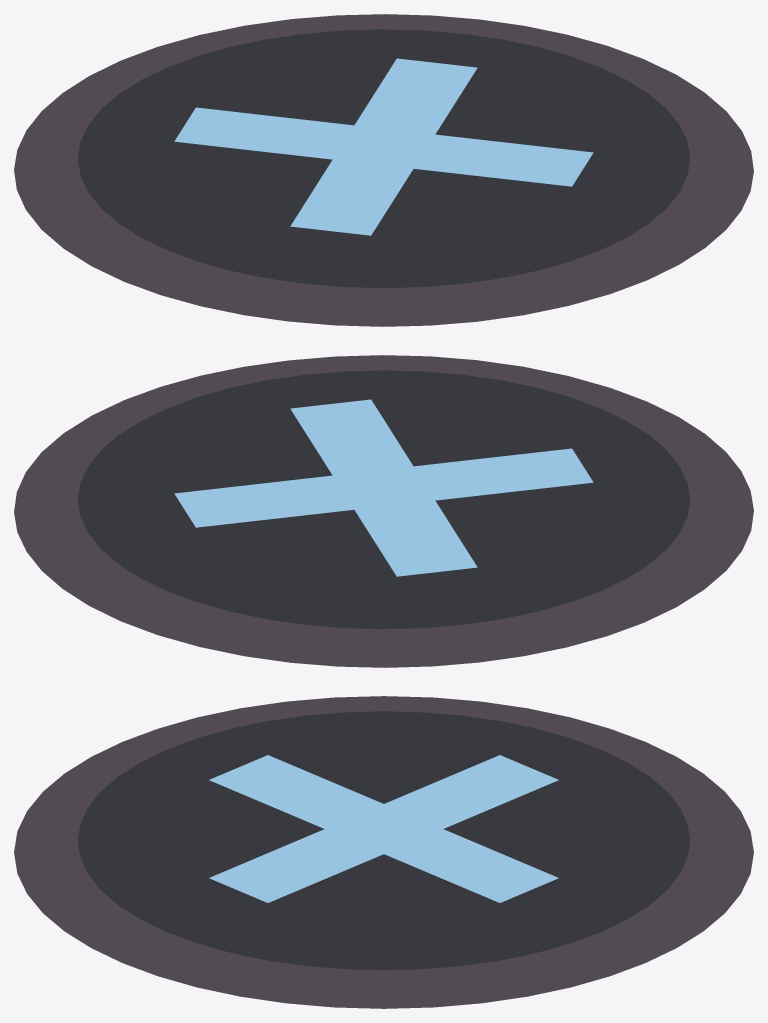
Rendered from back button 1.fbx.
3 renders of one model, top to bottom at view 1: azimuth 30°, elevation 25°; view 2: azimuth 150°, elevation 25°; view 3: azimuth 270°, elevation 25°, orthographic.
Visible parts, largest first — view 1: Curve.001, Curve, Curve.003, Curve.002; view 2: Curve.001, Curve, Curve.002, Curve.003; view 3: Curve.001, Curve, Curve.002, Curve.003.
Boxes of the visible parts, left/top/right/bottom form: Curve.001: left=77, top=29, right=690, bottom=288; Curve: left=14, top=14, right=753, bottom=326; Curve.003: left=290, top=58, right=477, bottom=235; Curve.002: left=174, top=107, right=593, bottom=186; Curve.001: left=77, top=370, right=690, bottom=629; Curve: left=14, top=355, right=753, bottom=667; Curve.002: left=290, top=399, right=477, bottom=576; Curve.003: left=174, top=448, right=593, bottom=527; Curve.001: left=78, top=711, right=689, bottom=970; Curve: left=14, top=696, right=753, bottom=1008; Curve.002: left=209, top=755, right=558, bottom=902; Curve.003: left=209, top=755, right=558, bottom=902.
Bounding box in the file's own units: 5.73 × 0.2 × 5.73.
